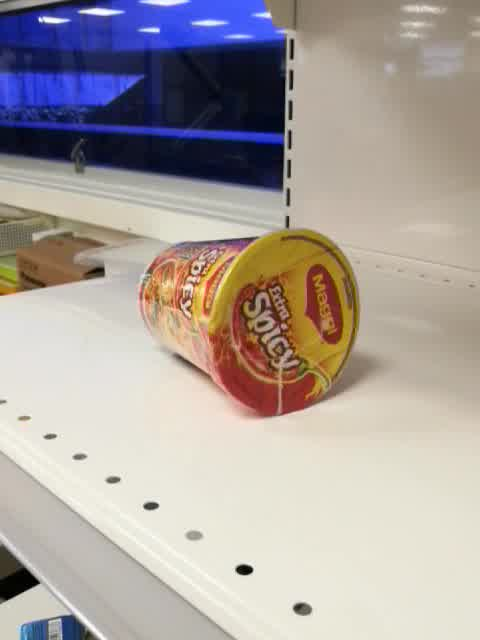maggi: (135, 228, 361, 417)
